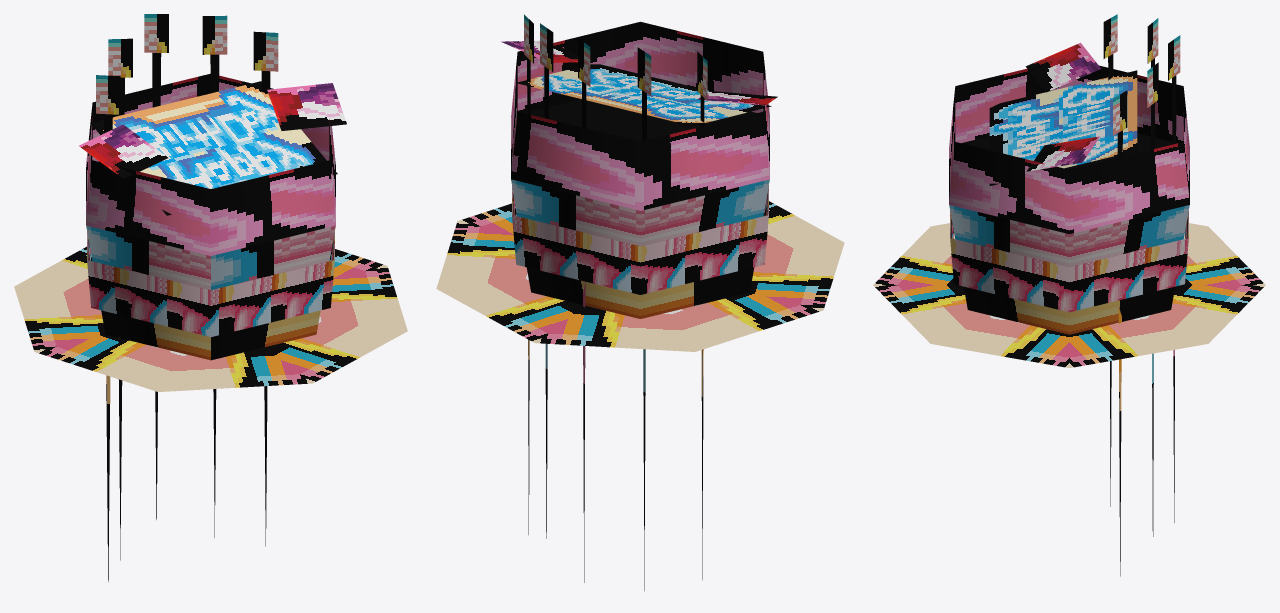
3 views of the same model, side by side, from view 1: azimuth 30°, elevation 25°; view 2: azimuth 150°, elevation 25°; view 3: azimuth 270°, elevation 25° (orthographic). The views are drawn at different scales.
Visible parts, largest first — view 1: 3519dl_cake; view 2: 3519dl_cake; view 3: 3519dl_cake.
Boxes of the visible parts, x1,y1,x2,y2 form: 3519dl_cake: (14,14,407,581); 3519dl_cake: (436,14,844,590); 3519dl_cake: (873,14,1265,576).
Bounding box in the file's own units: 0.8442 × 1.24 × 0.8442.
4 materials, 4 textured.
